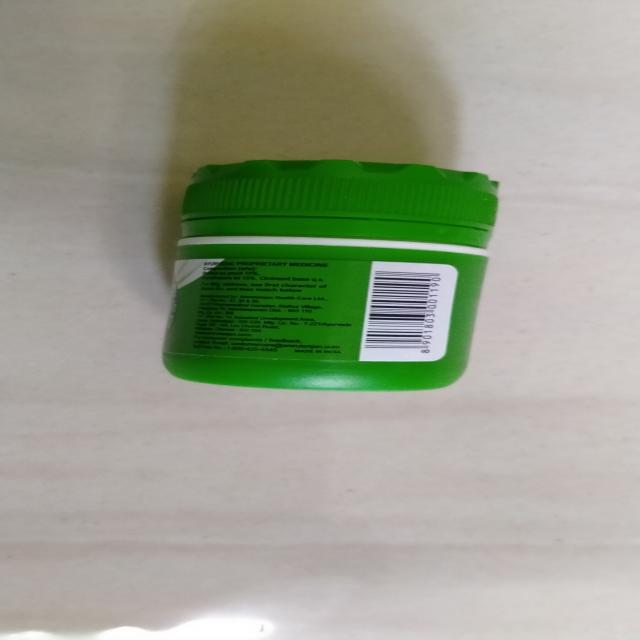eucalyptus oil: (157, 159, 496, 401)
